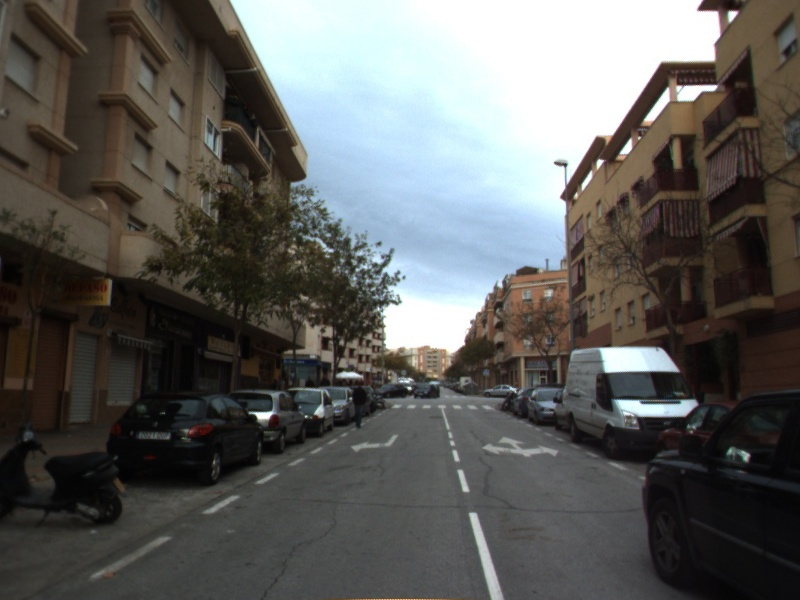STRAIGHT_LEFT_RIGHT: (480, 435, 561, 459)
